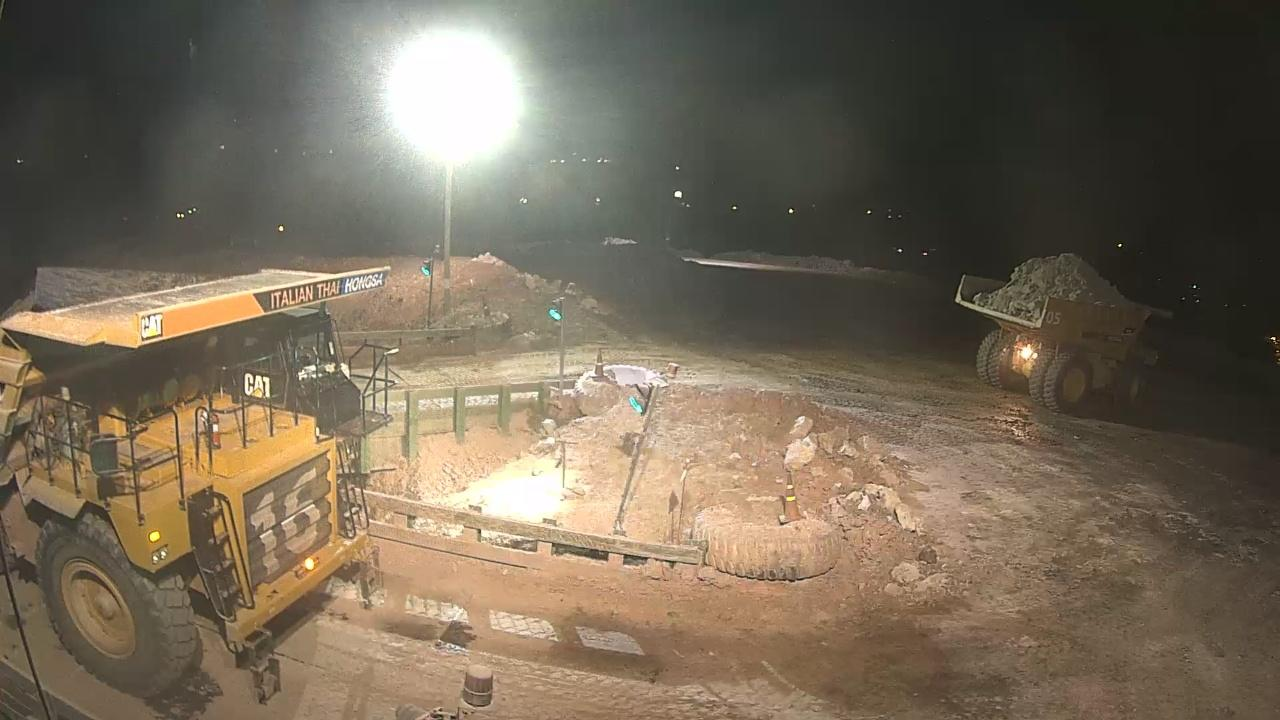front_number: (241, 460, 327, 573)
full_load: (996, 254, 1127, 330)
mining_truck: (1, 262, 401, 701), (952, 250, 1173, 415)
